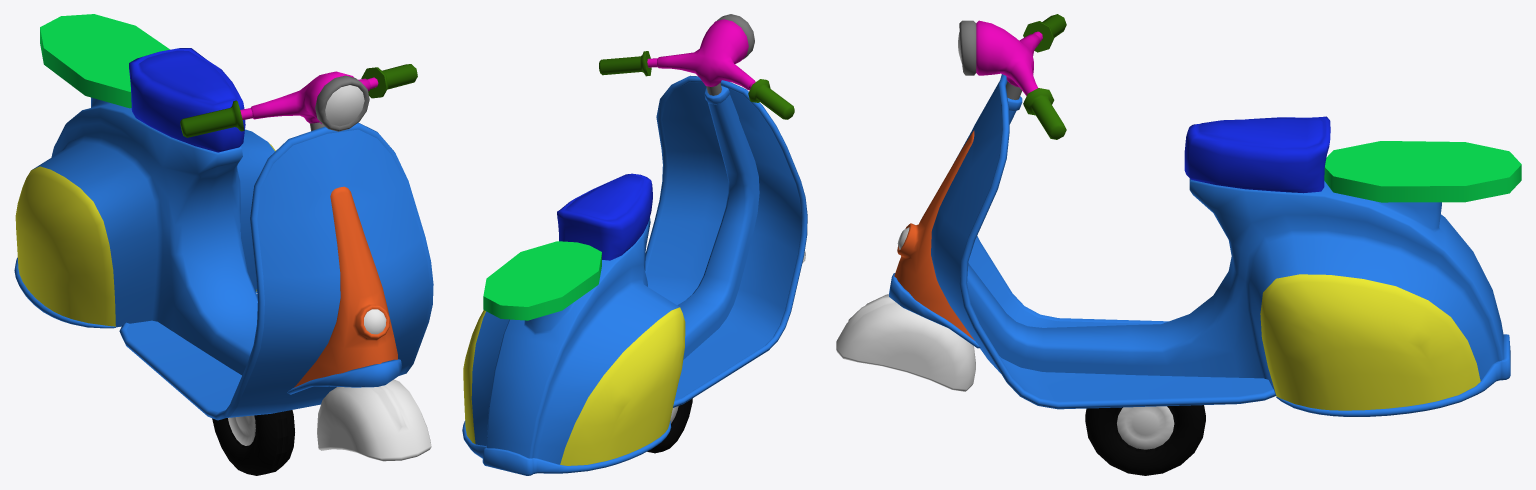
The model's file is scooterSSS.fbx.
3 views of the same model, side by side, from view 1: azimuth 30°, elevation 25°; view 2: azimuth 150°, elevation 25°; view 3: azimuth 270°, elevation 25° (orthographic). The views are drawn at different scales.
Parts seen in each view (by area): view 1: Vehicle01_BodyMesh, Vehicle01_FrontWheelCoverMesh, Vehicle01_HandleBarMesh, Vehicle01_WheelMesh; view 2: Vehicle01_BodyMesh, Vehicle01_HandleBarMesh, Vehicle01_WheelMesh; view 3: Vehicle01_BodyMesh, Vehicle01_FrontWheelCoverMesh, Vehicle01_WheelMesh, Vehicle01_HandleBarMesh.
Boxes of the visible parts, x1=… form: Vehicle01_BodyMesh: x1=14, y1=14, x2=433, y2=420; Vehicle01_FrontWheelCoverMesh: x1=317, y1=379, x2=431, y2=461; Vehicle01_HandleBarMesh: x1=180, y1=64, x2=417, y2=137; Vehicle01_WheelMesh: x1=212, y1=410, x2=294, y2=475; Vehicle01_BodyMesh: x1=462, y1=75, x2=807, y2=475; Vehicle01_HandleBarMesh: x1=599, y1=14, x2=794, y2=119; Vehicle01_WheelMesh: x1=647, y1=398, x2=692, y2=453; Vehicle01_BodyMesh: x1=889, y1=74, x2=1521, y2=416; Vehicle01_FrontWheelCoverMesh: x1=836, y1=294, x2=975, y2=391; Vehicle01_WheelMesh: x1=1085, y1=405, x2=1205, y2=475; Vehicle01_HandleBarMesh: x1=958, y1=14, x2=1066, y2=139.
Size of the model in its own units: 0.6615 by 1.23 by 1.7.
